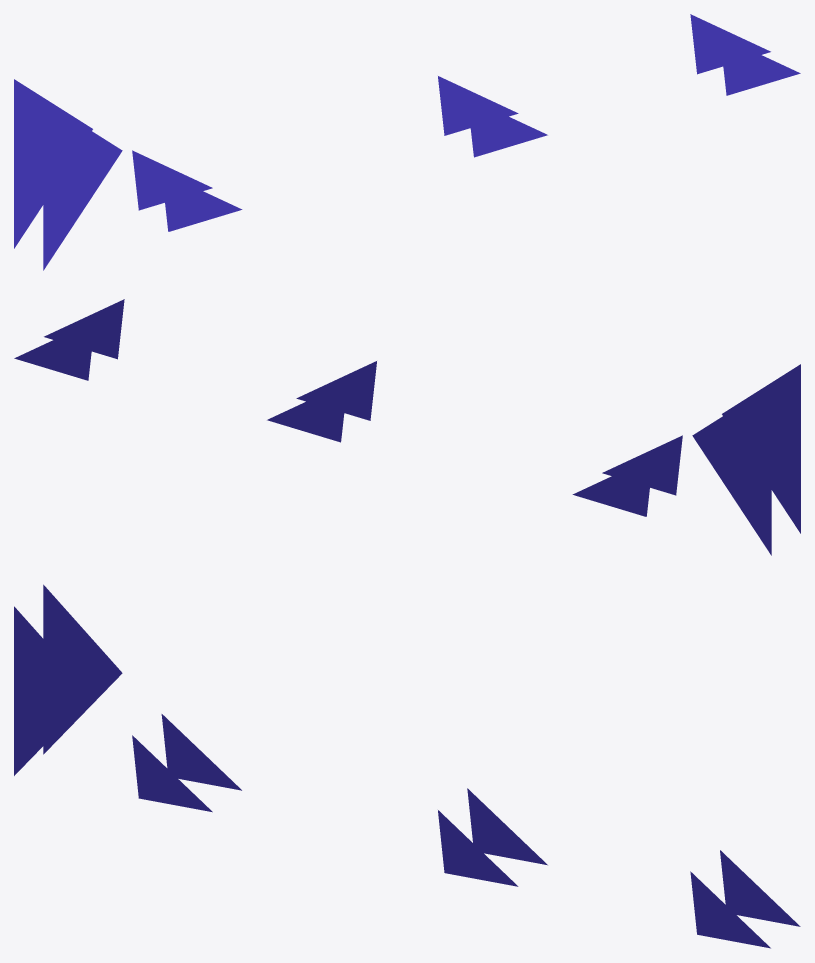
Rendered from portfolio.glb.
The picture shows the model from 3 angles, top to bottom: view 1: azimuth 30°, elevation 25°; view 2: azimuth 150°, elevation 25°; view 3: azimuth 330°, elevation 25°; orthographic projection.
Parts seen in each view (by area): view 1: Text; view 2: Text; view 3: Text.
Part boxes in pixels (x1,y1,x2,y2): Text: (14,14,800,270); Text: (14,299,800,555); Text: (14,584,800,948).
Size of the model in its own units: 2.97 by 0.638 by 0.2.
